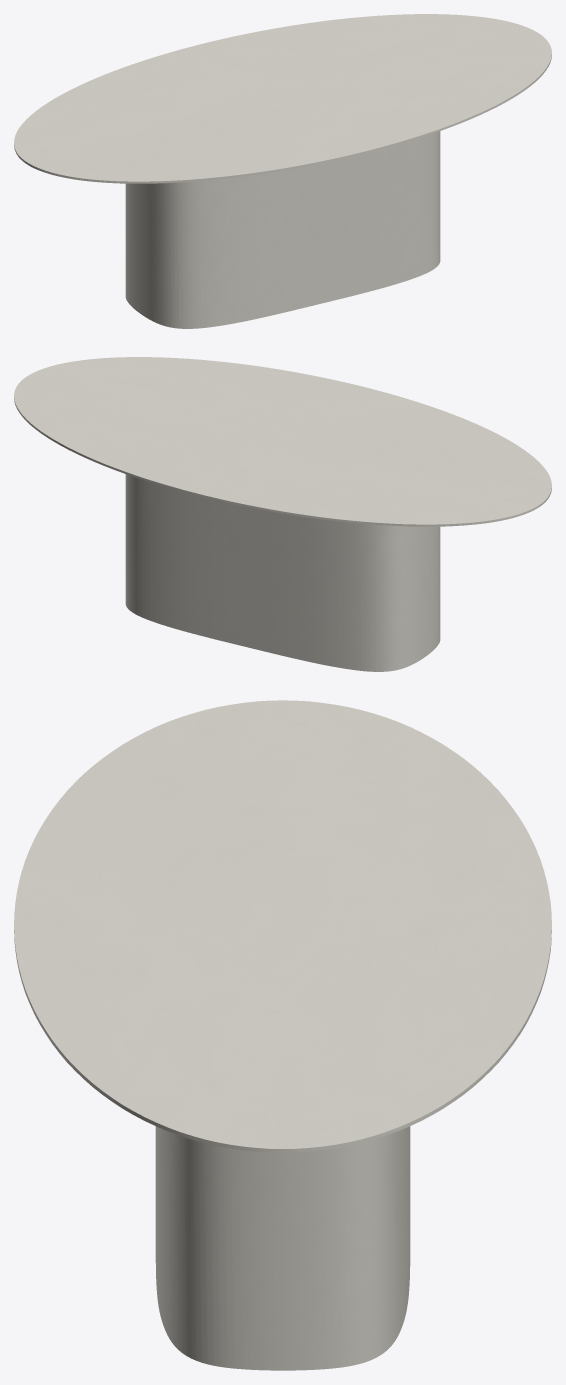
The model's file is pale_ellips_facet_fixed.glb.
3 views of the same model, one above another, from view 1: azimuth 30°, elevation 25°; view 2: azimuth 150°, elevation 25°; view 3: azimuth 270°, elevation 25° (orthographic). The views are drawn at different scales.
Parts seen in each view (by area): view 1: facet_ellips, fixed; view 2: facet_ellips, fixed; view 3: facet_ellips, fixed.
Part boxes in pixels (<box>): facet_ellips: <box>14,14,551,183</box>; fixed: <box>125,131,440,328</box>; facet_ellips: <box>14,357,551,526</box>; fixed: <box>125,474,440,671</box>; facet_ellips: <box>14,700,551,1152</box>; fixed: <box>155,1126,410,1370</box>.
Bounding box in the file's own units: 7.5 × 2.5 × 3.8.
1 material, 1 textured.
